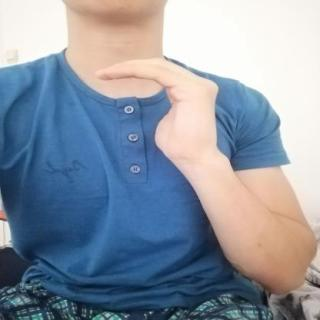HAA: (81, 51, 230, 164)
